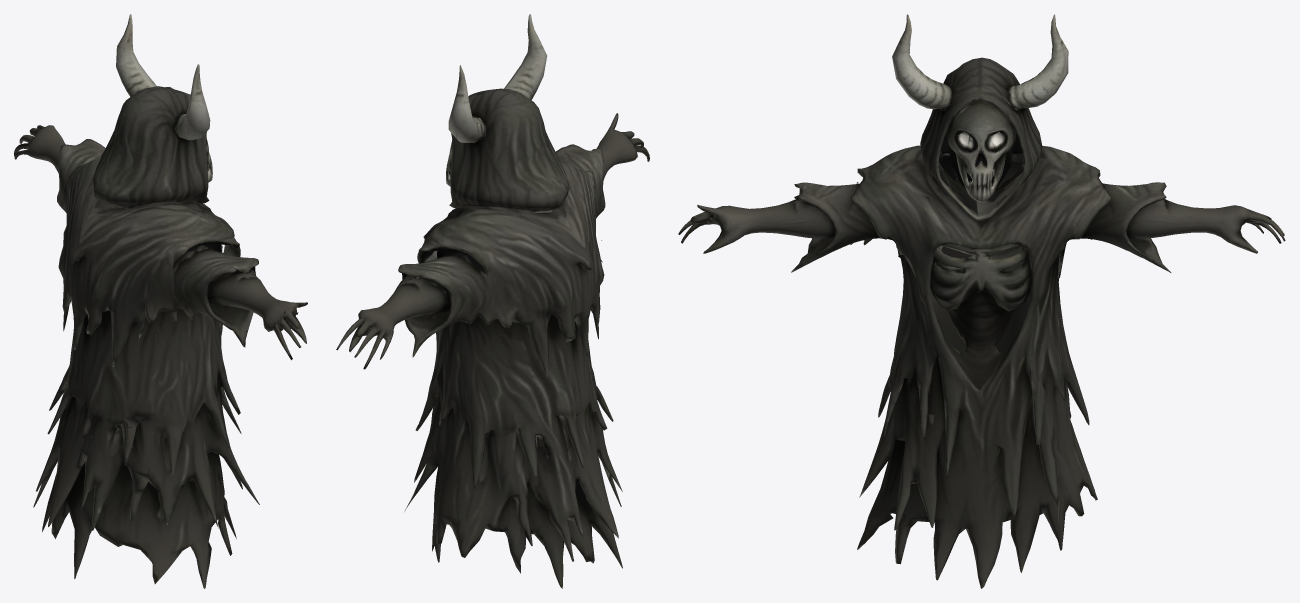
The model's file is Mostrico t pose.fbx.
3 renders of one model, left to right at view 1: azimuth 30°, elevation 25°; view 2: azimuth 150°, elevation 25°; view 3: azimuth 270°, elevation 25°, orthographic. The views are drawn at different scales.
Visible parts, largest first — view 1: tripo_node_85732d8a; view 2: tripo_node_85732d8a; view 3: tripo_node_85732d8a.
Boxes of the visible parts, x1,y1,x2,y2 form: tripo_node_85732d8a: (14,14,307,588); tripo_node_85732d8a: (336,14,649,588); tripo_node_85732d8a: (678,14,1285,588).
Bounding box in the file's own units: 37.16 × 98.13 × 99.07.
1 material, 1 textured.
